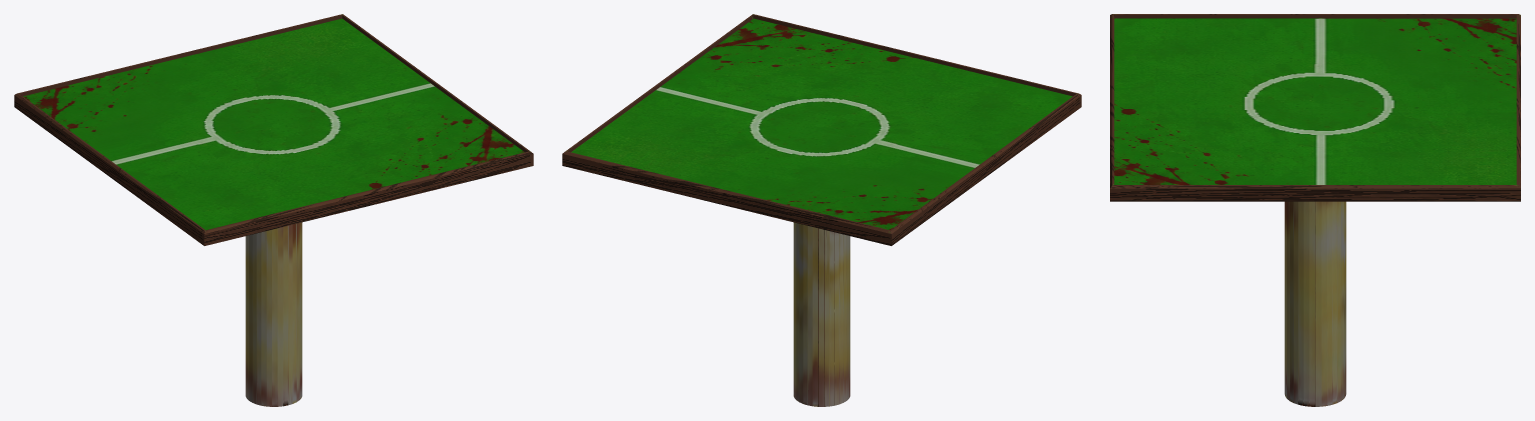
File: Table.fbx
The picture shows the model from 3 angles, left to right: view 1: azimuth 30°, elevation 25°; view 2: azimuth 150°, elevation 25°; view 3: azimuth 270°, elevation 25°; orthographic projection. The views are drawn at different scales.
Parts seen in each view (by area): view 1: Table; view 2: Table; view 3: Table.
Part boxes in pixels (box(x1,y1,x2,y2)): Table: box(14, 14, 533, 406); Table: box(562, 14, 1081, 406); Table: box(1110, 14, 1520, 406).
Bounding box in the file's own units: 10 × 10 × 7.9.
